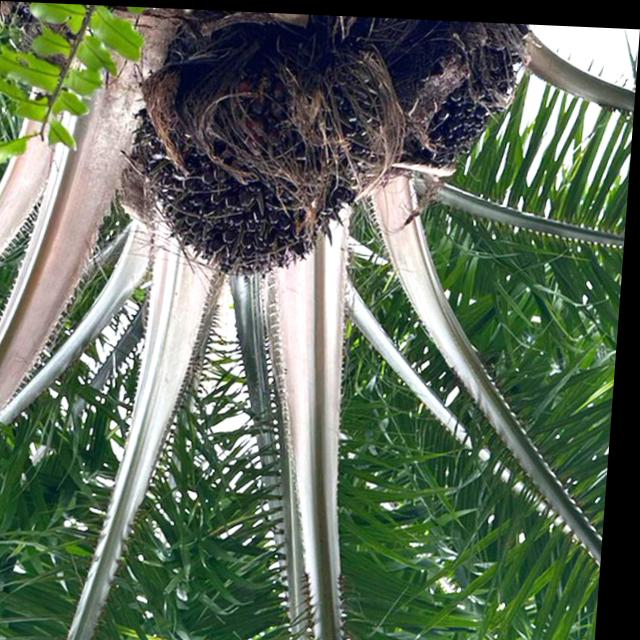almost: (116, 13, 390, 291)
